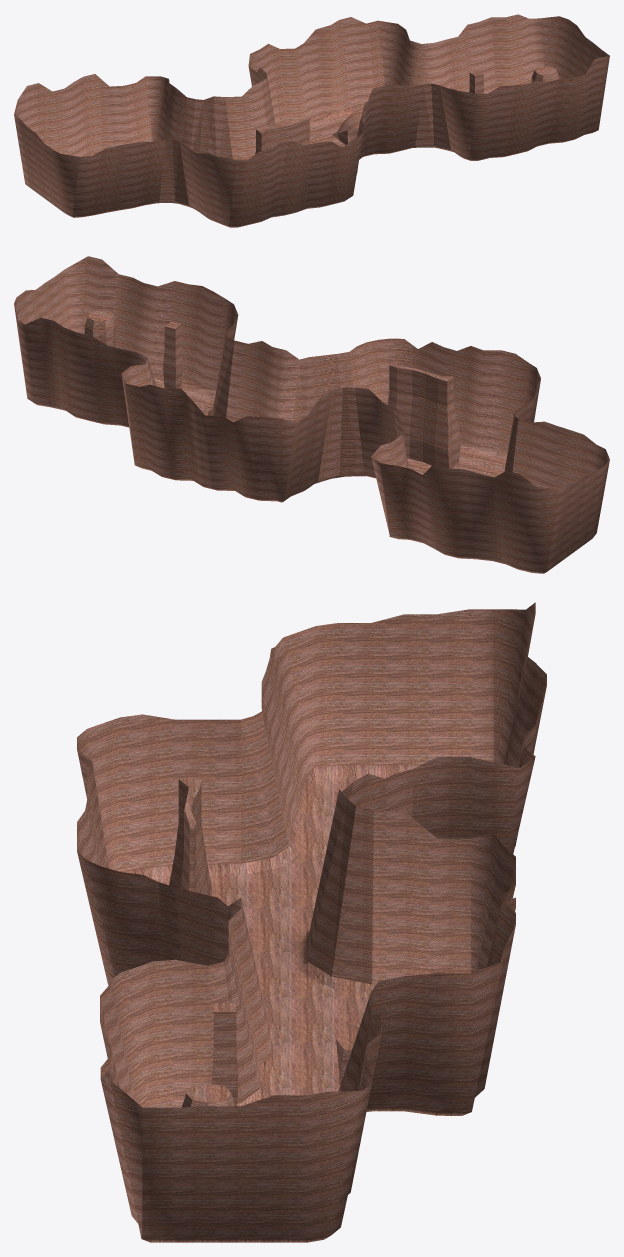
Rendered from canyon1.DAE.
3 views of the same model, one above another, from view 1: azimuth 30°, elevation 25°; view 2: azimuth 150°, elevation 25°; view 3: azimuth 270°, elevation 25° (orthographic). The views are drawn at different scales.
Visible parts, largest first — view 1: Plan01_PIVOT; view 2: Plan01_PIVOT; view 3: Plan01_PIVOT.
Part boxes in pixels (bbox=[...]): Plan01_PIVOT: bbox=[14, 14, 609, 227]; Plan01_PIVOT: bbox=[14, 256, 609, 573]; Plan01_PIVOT: bbox=[77, 602, 546, 1242].
Size of the model in its own units: 669 by 268 by 115.
